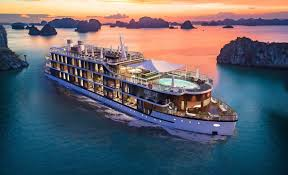tau_dansu: (47, 41, 240, 147)
